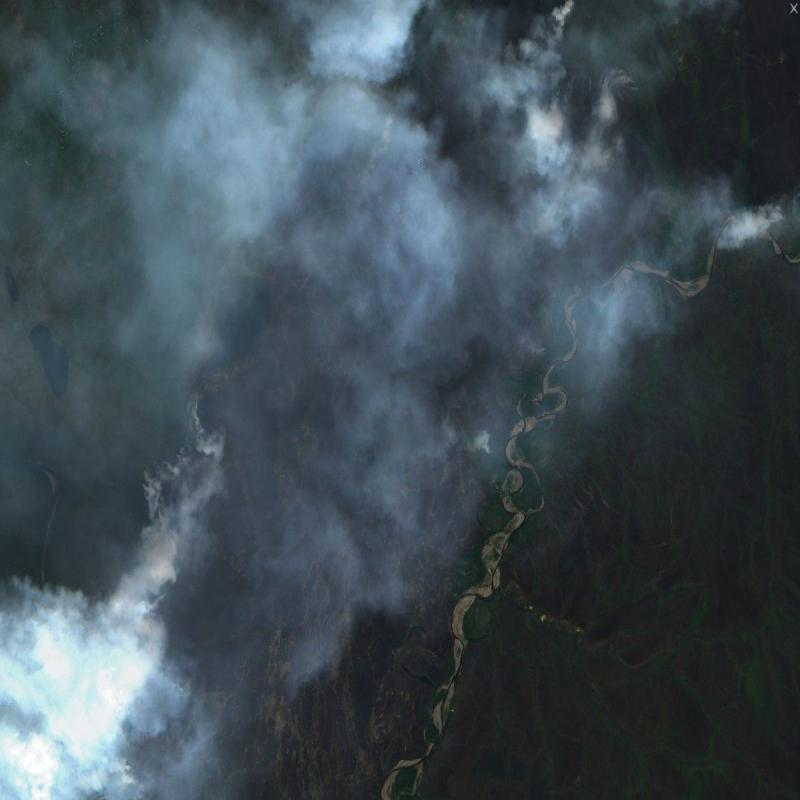fire: (102, 395, 236, 800), (492, 0, 634, 224), (741, 191, 798, 261)
